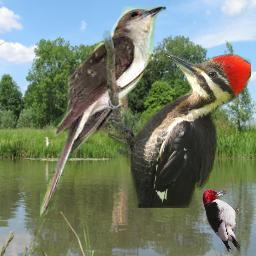Cuckoo: (40, 5, 166, 217)
Woodpecker: (108, 51, 251, 208), (202, 189, 241, 252)
